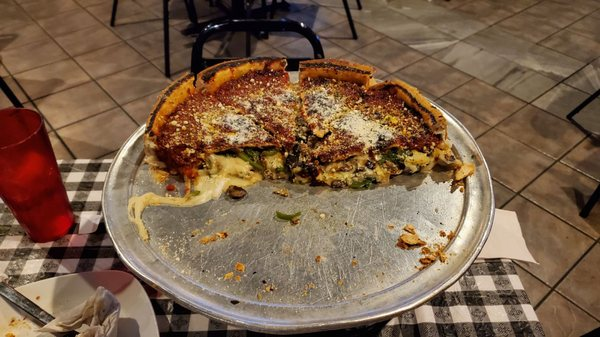pizza: (0, 105, 77, 244)
sandwich: (0, 278, 82, 336)
